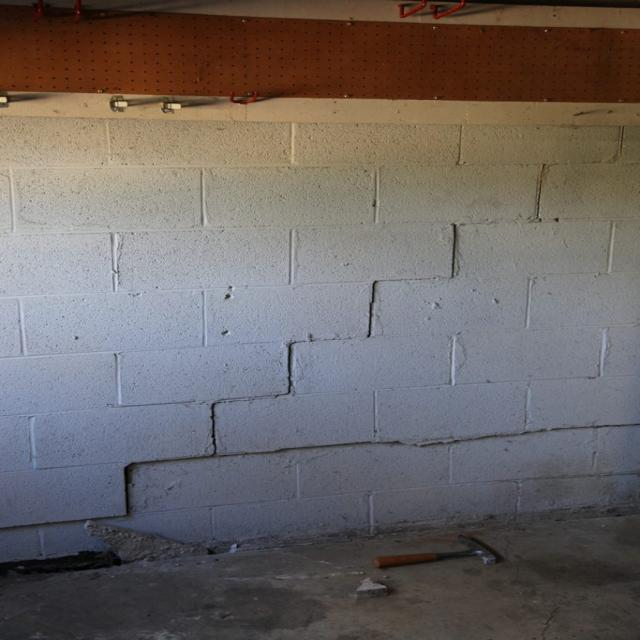Crack: (0, 125, 629, 530)
